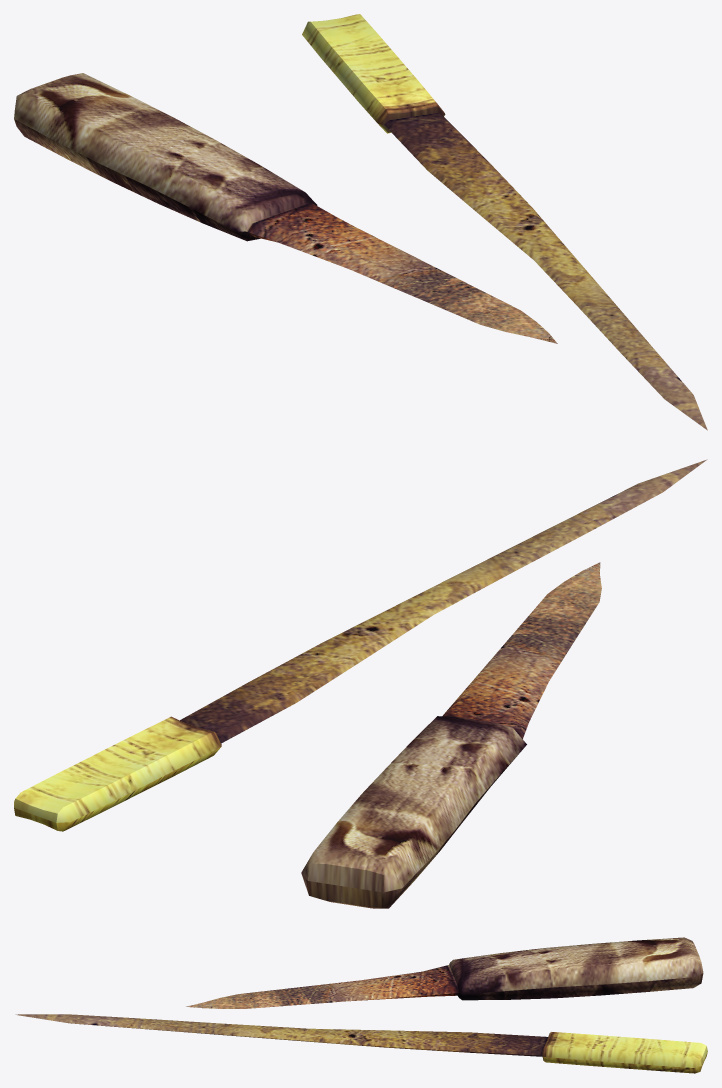
The model's file is Armas.FBX.
3 renders of one model, top to bottom at view 1: azimuth 30°, elevation 25°; view 2: azimuth 150°, elevation 25°; view 3: azimuth 270°, elevation 25°, orthographic. The views are drawn at different scales.
Visible parts, largest first — view 1: Plane001; view 2: Plane001; view 3: Plane001.
Boxes of the visible parts, bbox=[...] form: Plane001: bbox=[14, 14, 707, 430]; Plane001: bbox=[14, 459, 707, 908]; Plane001: bbox=[15, 937, 707, 1073].
Size of the model in its own units: 112 by 13.91 by 273.
Materials: 1 (1 with a texture image).
